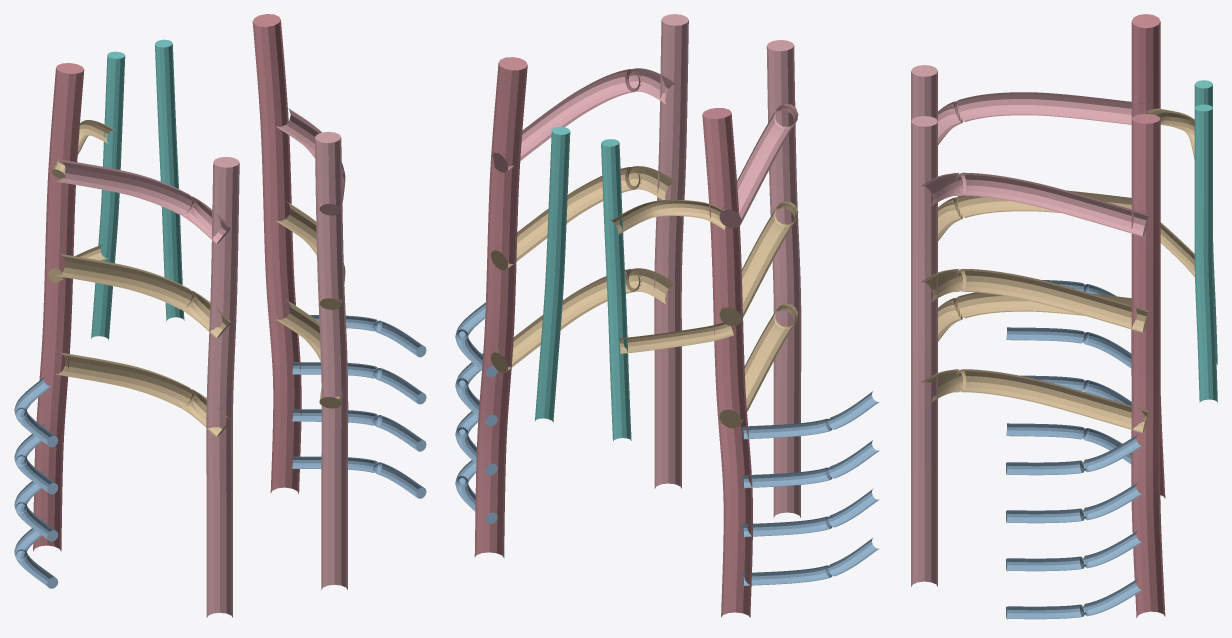
Rendered from embryo_etapa2.glb.
3 renders of one model, left to right at view 1: azimuth 30°, elevation 25°; view 2: azimuth 150°, elevation 25°; view 3: azimuth 270°, elevation 25°, orthographic. The views are drawn at different scales.
Visible parts, largest first — view 1: Aorta dorsal primitiva — lado direito, Aorta dorsal primitiva — lado esquerdo, Aorta ventral primitiva — lado esquerdo, Aorta ventral primitiva — lado direito, Artéria longitudinal neural — L, Artéria longitudinal neural — R, III arco arterial faríngeo — esquerdo, IV arco arterial faríngeo — esquerdo, VI arco arterial faríngeo — esquerdo, Artéria intersegmentar cervical 2 — R, Artéria intersegmentar cervical 3 — R, Artéria intersegmentar cervical 4 — R (+9 smaller); view 2: Aorta dorsal primitiva — lado direito, Aorta dorsal primitiva — lado esquerdo, Aorta ventral primitiva — lado direito, Aorta ventral primitiva — lado esquerdo, Artéria longitudinal neural — R, Artéria longitudinal neural — L, III arco arterial faríngeo — direito, VI arco arterial faríngeo — direito, IV arco arterial faríngeo — direito, III arco arterial faríngeo — esquerdo, IV arco arterial faríngeo — esquerdo, VI arco arterial faríngeo — esquerdo (+10 smaller); view 3: Aorta dorsal primitiva — lado direito, Aorta ventral primitiva — lado direito, Artéria longitudinal neural — R, III arco arterial faríngeo — direito, IV arco arterial faríngeo — direito, VI arco arterial faríngeo — direito, III arco arterial faríngeo — esquerdo, Aorta dorsal primitiva — lado esquerdo, VI arco arterial faríngeo — esquerdo, IV arco arterial faríngeo — esquerdo, Artéria intersegmentar cervical 4 — R, Artéria intersegmentar cervical 3 — R (+10 smaller).
Boxes of the visible parts, left/top/right/bottom form: Aorta dorsal primitiva — lado direito: left=252, top=14, right=301, bottom=493; Aorta dorsal primitiva — lado esquerdo: left=33, top=63, right=84, bottom=551; Aorta ventral primitiva — lado esquerdo: left=206, top=156, right=239, bottom=617; Aorta ventral primitiva — lado direito: left=315, top=131, right=348, bottom=589; Artéria longitudinal neural — L: left=91, top=51, right=125, bottom=339; Artéria longitudinal neural — R: left=155, top=39, right=184, bottom=321; III arco arterial faríngeo — esquerdo: left=55, top=159, right=231, bottom=244; IV arco arterial faríngeo — esquerdo: left=55, top=253, right=231, bottom=338; VI arco arterial faríngeo — esquerdo: left=56, top=352, right=230, bottom=437; Artéria intersegmentar cervical 2 — R: left=292, top=362, right=426, bottom=404; Artéria intersegmentar cervical 3 — R: left=292, top=409, right=426, bottom=451; Artéria intersegmentar cervical 4 — R: left=292, top=456, right=426, bottom=498; Aorta dorsal primitiva — lado direito: left=474, top=57, right=527, bottom=557; Aorta dorsal primitiva — lado esquerdo: left=702, top=108, right=752, bottom=617; Aorta ventral primitiva — lado direito: left=654, top=14, right=688, bottom=488; Aorta ventral primitiva — lado esquerdo: left=766, top=40, right=801, bottom=517; Artéria longitudinal neural — R: left=535, top=126, right=570, bottom=422; Artéria longitudinal neural — L: left=601, top=139, right=631, bottom=441; III arco arterial faríngeo — direito: left=491, top=68, right=675, bottom=172; VI arco arterial faríngeo — direito: left=491, top=268, right=675, bottom=372; IV arco arterial faríngeo — direito: left=491, top=166, right=675, bottom=270; III arco arterial faríngeo — esquerdo: left=719, top=103, right=798, bottom=228; IV arco arterial faríngeo — esquerdo: left=719, top=201, right=798, bottom=326; VI arco arterial faríngeo — esquerdo: left=719, top=303, right=798, bottom=428; Aorta dorsal primitiva — lado direito: left=1131, top=113, right=1165, bottom=617; Aorta ventral primitiva — lado direito: left=911, top=116, right=937, bottom=586; Artéria longitudinal neural — R: left=1194, top=104, right=1217, bottom=402; III arco arterial faríngeo — direito: left=921, top=172, right=1149, bottom=236; IV arco arterial faríngeo — direito: left=921, top=268, right=1149, bottom=332; VI arco arterial faríngeo — direito: left=920, top=369, right=1149, bottom=432; III arco arterial faríngeo — esquerdo: left=938, top=92, right=1146, bottom=144; Aorta dorsal primitiva — lado esquerdo: left=1131, top=14, right=1165, bottom=498; VI arco arterial faríngeo — esquerdo: left=938, top=292, right=1131, bottom=341; IV arco arterial faríngeo — esquerdo: left=938, top=190, right=1131, bottom=240; Artéria intersegmentar cervical 4 — R: left=1006, top=578, right=1142, bottom=619; Artéria intersegmentar cervical 3 — R: left=1006, top=530, right=1142, bottom=571.
Size of the model in its own units: 4.63 by 5.62 by 3.18.
